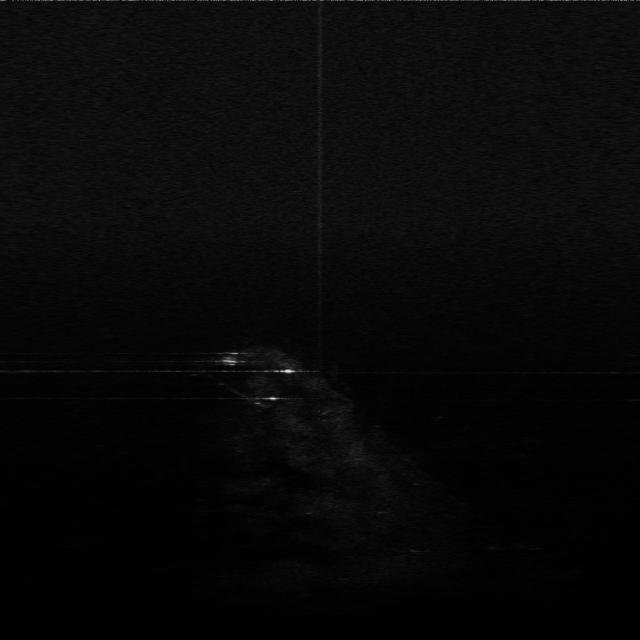rov: (217, 348, 247, 368)
